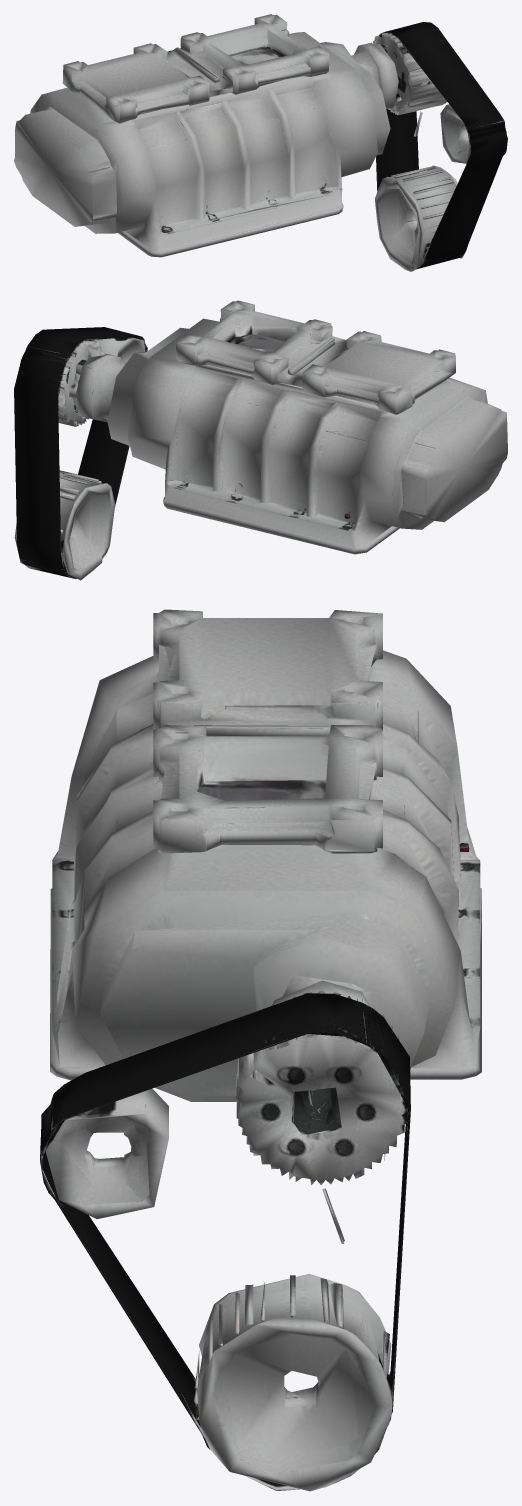
Rendered from blower.glb.
3 views of the same model, one above another, from view 1: azimuth 30°, elevation 25°; view 2: azimuth 150°, elevation 25°; view 3: azimuth 270°, elevation 25° (orthographic). The views are drawn at different scales.
Visible parts, largest first — view 1: blower; view 2: blower; view 3: blower.
Boxes of the visible parts, x1=… form: blower: x1=14, y1=14, x2=507, y2=271; blower: x1=14, y1=300, x2=507, y2=580; blower: x1=40, y1=609, x2=481, y2=1491.
Bounding box in the file's own units: 0.72 × 0.4526 × 0.3438.
1 material, 1 textured.
